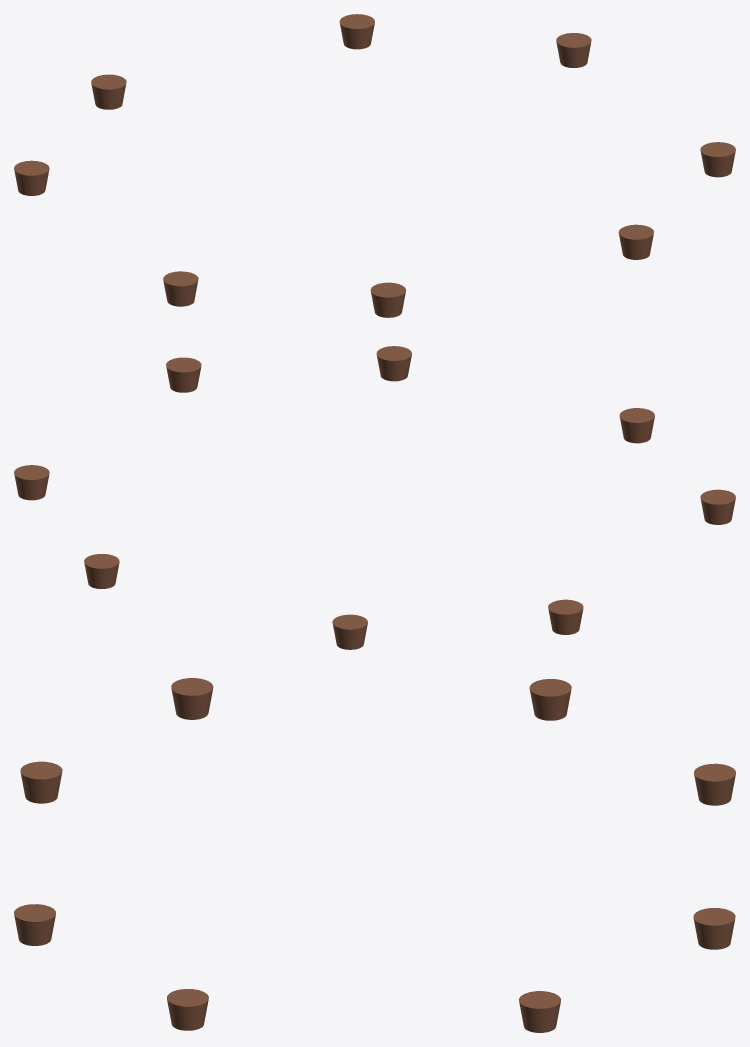
The model's file is Pots.fbx.
3 views of the same model, one above another, from view 1: azimuth 30°, elevation 25°; view 2: azimuth 150°, elevation 25°; view 3: azimuth 270°, elevation 25° (orthographic). The views are drawn at different scales.
Parts seen in each view (by area): view 1: polySurface40, polySurface47, polySurface44, polySurface33, polySurface35, polySurface38, polySurface42, polySurface45; view 2: polySurface38, polySurface42, polySurface47, polySurface44, polySurface33, polySurface45, polySurface35, polySurface40; view 3: polySurface38, polySurface44, polySurface35, polySurface40, polySurface47, polySurface45, polySurface42, polySurface33.
Part boxes in pixels (left/top/right/bottom): polySurface40: left=339, top=14, right=374, bottom=49; polySurface47: left=91, top=74, right=126, bottom=109; polySurface44: left=163, top=271, right=198, bottom=306; polySurface33: left=700, top=142, right=735, bottom=177; polySurface35: left=14, top=160, right=49, bottom=195; polySurface38: left=370, top=282, right=405, bottom=317; polySurface42: left=556, top=33, right=591, bottom=67; polySurface45: left=618, top=224, right=653, bottom=259; polySurface38: left=619, top=408, right=654, bottom=443; polySurface42: left=14, top=465, right=49, bottom=500; polySurface47: left=332, top=614, right=367, bottom=649; polySurface44: left=700, top=489, right=735, bottom=524; polySurface33: left=166, top=357, right=201, bottom=392; polySurface45: left=376, top=346, right=411, bottom=381; polySurface35: left=548, top=599, right=583, bottom=634; polySurface40: left=84, top=554, right=119, bottom=588; polySurface38: left=20, top=761, right=62, bottom=803; polySurface44: left=171, top=678, right=213, bottom=719; polySurface35: left=529, top=679, right=571, bottom=720; polySurface40: left=693, top=908, right=735, bottom=949; polySurface47: left=694, top=763, right=735, bottom=805; polySurface45: left=14, top=904, right=55, bottom=945; polySurface42: left=519, top=991, right=560, bottom=1032; polySurface33: left=167, top=989, right=208, bottom=1030.
Size of the model in its own units: 1009 by 37.26 by 930.
